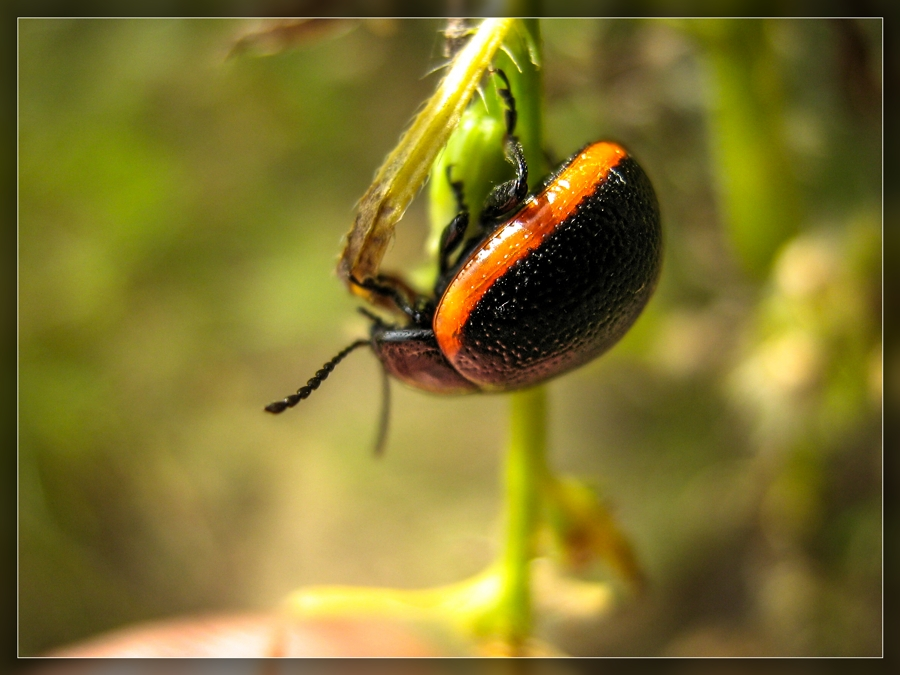Chrysolina_gypsophila: (261, 58, 663, 428)
